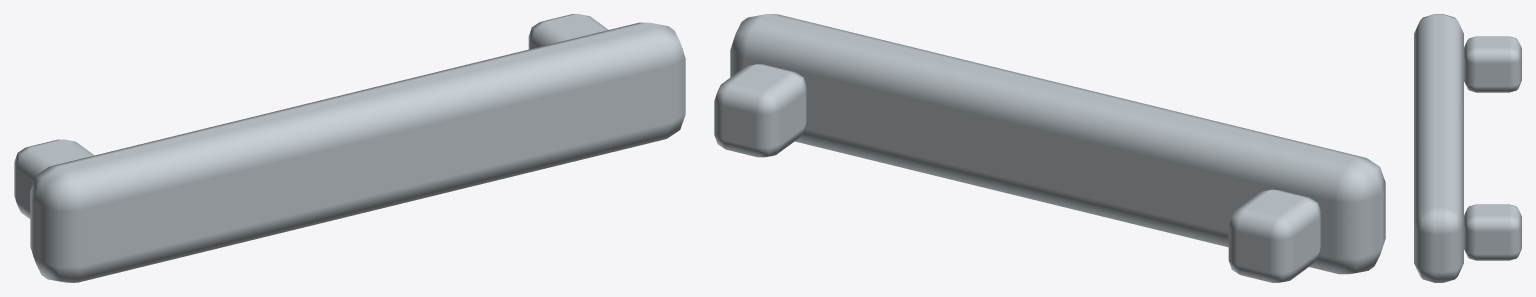
The model's file is SM_BarHandle_12.glb.
3 renders of one model, left to right at view 1: azimuth 30°, elevation 25°; view 2: azimuth 150°, elevation 25°; view 3: azimuth 270°, elevation 25°, orthographic. The views are drawn at different scales.
Visible parts, largest first — view 1: SM_BarHandle_12; view 2: SM_BarHandle_12; view 3: SM_BarHandle_12.
Part boxes in pixels (x1=…): SM_BarHandle_12: x1=14, y1=14, x2=685, y2=282; SM_BarHandle_12: x1=714, y1=14, x2=1385, y2=282; SM_BarHandle_12: x1=1414, y1=14, x2=1521, y2=282.
Size of the model in its own units: 0.12 by 0.02 by 0.026.
Materials: 1 (1 with a texture image).
